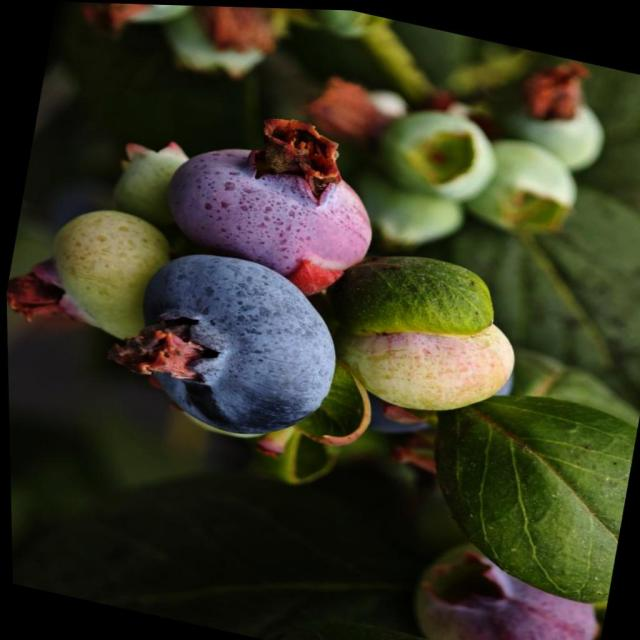RipeBlueBerry: (109, 234, 354, 453)
Semi-RipeBlueBerry: (151, 111, 390, 287), (399, 530, 609, 640)
